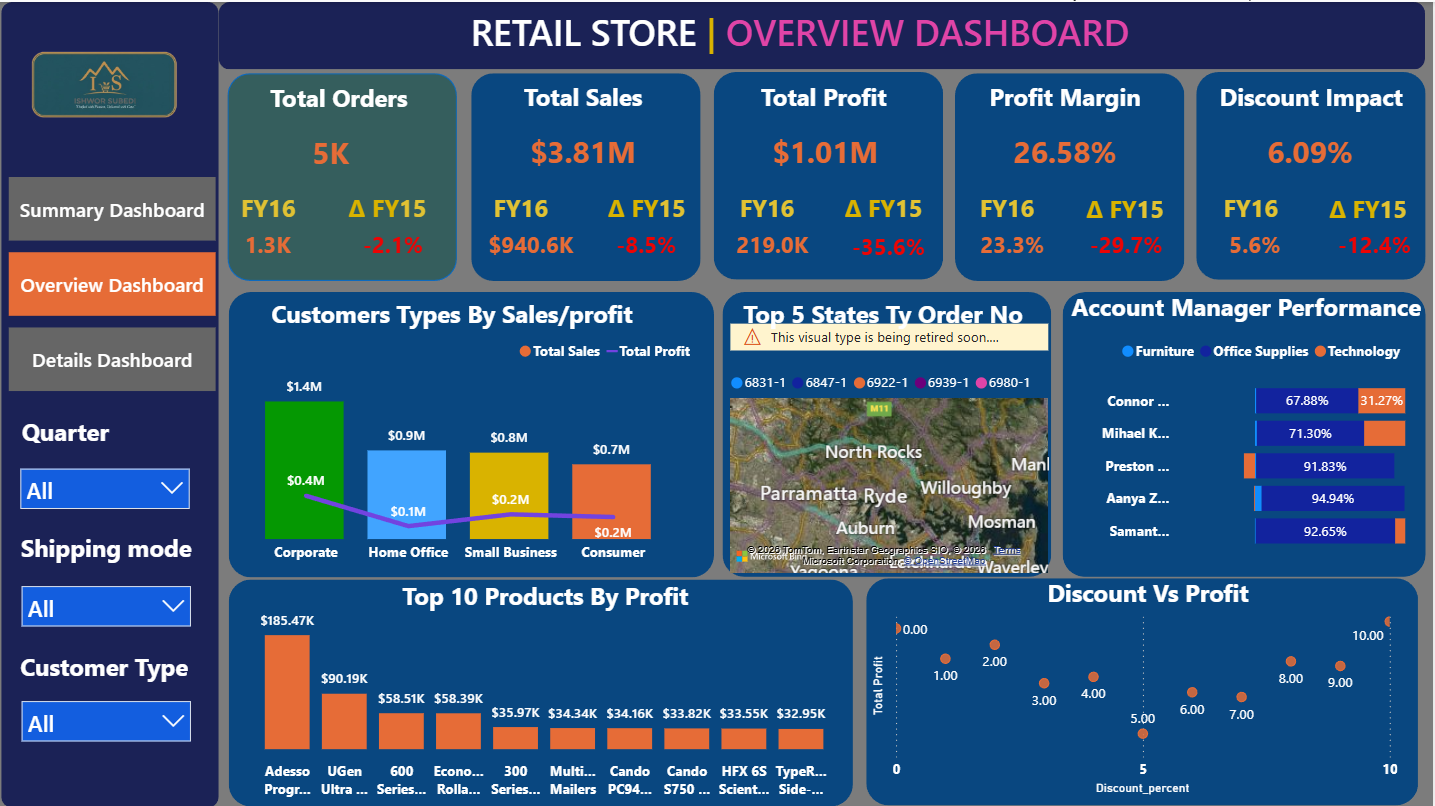

The dashboard page shown, as its layout file describes it:
{"tool":"powerbi","page":{"name":"Overview Dashboard","canvas":[1280,720],"ordinal":1},"visuals":[{"type":"shape","box":[195.4,0,1077.5,60.3],"z":0},{"type":"slicer","fields":{"Values":["Date.Quarter"]},"box":[8.1,407,171.8,63.1],"z":0,"group":"g1"},{"type":"slicer","fields":{"Values":["retail_data.Ship_Mode"]},"box":[8.7,511.1,171.8,63.1],"z":0,"group":"g2"},{"type":"slicer","fields":{"Values":["retail_data.Customer_Type"]},"box":[9.3,614.4,171.8,63.1],"z":0,"group":"g3"},{"type":"shape","box":[203.3,63.3,205,185.6],"z":1000},{"type":"textbox","box":[0,364.1,116.8,45.6],"z":1000,"group":"g1"},{"type":"textbox","box":[10.9,468,167.5,45.8],"z":1000,"group":"g2"},{"type":"textbox","box":[1.1,574.1,183.9,51],"z":1000,"group":"g3"},{"type":"shape","box":[1.2,0,194.2,719.8],"z":2000},{"type":"textbox","box":[355.1,0,719.1,72.6],"z":3000},{"type":"shape","box":[421.1,63.3,205,185.6],"z":4000},{"type":"card","fields":{"Values":["retail_data.Total Orders"]},"box":[212.2,107,166.7,56.7],"z":5000},{"type":"card","fields":{"Values":["retail_data.Total Sales"]},"box":[437.2,107.4,166.3,55.8],"z":6000},{"type":"textbox","box":[202.3,65.7,201.2,45.3],"z":7000},{"type":"textbox","box":[419.9,65,202.1,46.9],"z":8000},{"type":"shape","box":[637.6,63,205,185.4],"z":9000},{"type":"shape","box":[853.3,63.3,205,185.6],"z":10000},{"type":"shape","box":[1068.9,62.9,205,185.6],"z":11000},{"type":"textbox","box":[194.2,164.7,84.9,45.3],"z":12000},{"type":"textbox","box":[276.7,164.7,132.6,45.3],"z":13000},{"type":"textbox","box":[520.9,164.7,101.2,45.3],"z":14000},{"type":"textbox","box":[732.2,164.4,107.8,45.6],"z":15000},{"type":"textbox","box":[948.9,165.1,100,44.4],"z":16000},{"type":"textbox","box":[1170,165.6,97.8,44.4],"z":17000},{"type":"textbox","box":[419.8,164.7,84.9,45.3],"z":18000},{"type":"textbox","box":[639.5,164.7,84.9,45.3],"z":19000},{"type":"textbox","box":[854.7,164.7,84.9,45.3],"z":20000},{"type":"textbox","box":[1072.1,164.7,84.9,45.3],"z":21000},{"type":"textbox","box":[635.4,64.8,201,46.9],"z":22000},{"type":"textbox","box":[850.9,64.8,201,46.9],"z":23000},{"type":"textbox","box":[1070.8,64.8,201,46.9],"z":24000},{"type":"card","fields":{"Values":["retail_data.Total Sales 2016"]},"box":[390.5,190.9,167.4,55.8],"z":25000},{"type":"card","fields":{"Values":["retail_data.Orders YTD"]},"box":[155.8,190.9,166.3,55.8],"z":26000},{"type":"card","fields":{"Values":["retail_data.YOY Orders %"]},"box":[267.8,191.1,166.7,55.6],"z":27000},{"type":"card","fields":{"Values":["retail_data.Sales diffrence%"]},"box":[495,190.2,165.9,57.2],"z":28000},{"type":"card","fields":{"Values":["retail_data.Total Profit"]},"box":[654.3,107.7,166,55.3],"z":29000},{"type":"card","fields":{"Values":["retail_data.Total Profit 2016"]},"box":[606.7,191.1,167.8,55.6],"z":30000},{"type":"card","fields":{"Values":["retail_data.profit diffrence%"]},"box":[711.3,192.1,165.3,55.8],"z":31000},{"type":"card","fields":{"Values":["retail_data.profit margindiffrence%"]},"box":[923.3,191.1,165.6,55.6],"z":32000},{"type":"card","fields":{"Values":["retail_data.Profit Margin %"]},"box":[868.9,107.5,165.6,55.6],"z":33000},{"type":"card","fields":{"Values":["retail_data.Discount Impact %"]},"box":[1087.8,107.5,165.6,55.6],"z":34000},{"type":"card","fields":{"Values":["retail_data.profit margin 2016"]},"box":[821.1,192.2,167.8,53.3],"z":35000},{"type":"card","fields":{"Values":["retail_data.Discount impact 2016"]},"box":[1037.8,192.2,167.8,53.3],"z":36000},{"type":"card","fields":{"Values":["retail_data.discount impact diffrence%"]},"box":[1178.9,191.1,97.8,55.6],"z":37000},{"type":"shape","box":[204,259,433.5,255],"z":38000},{"type":"textbox","box":[220.1,259,367.7,44.3],"z":39000},{"type":"group","id":"g1","title":"Group 1","box":[0,364.1,179.8,106],"z":40000},{"type":"group","id":"g2","title":"Group 1","box":[8.7,468,171.8,106.2],"z":41000},{"type":"group","id":"g3","title":"Group 1","box":[1.1,574.1,183.9,103.4],"z":42000},{"type":"image","box":[1.1,0,184.2,147.4],"z":43000},{"type":"shape","box":[645.4,259.1,293.7,254.6],"z":44000},{"type":"lineClusteredColumnComboChart","fields":{"Category":["retail_data.Customer_Type"],"Y":["retail_data.Total Sales"],"Y2":["retail_data.Total Profit"]},"box":[195.9,292.6,430.8,217.4],"z":45000},{"type":"filledMap","fields":{"Category":["retail_data.Address"],"Series":["retail_data.Order_No"]},"box":[647.7,282.6,294.2,232.6],"z":46000},{"type":"textbox","box":[654.3,259.1,269.1,44.7],"z":47000},{"type":"shape","box":[948.8,259.3,324.4,254.7],"z":48000},{"type":"hundredPercentStackedBarChart","fields":{"Category":["retail_data.Account_Manager"],"Y":["retail_data.Total Profit"],"Series":["retail_data.Product_Category"]},"box":[968.1,292.6,292.6,208.8],"z":49000},{"type":"shape","box":[204.1,516.2,557.5,202.8],"z":50000},{"type":"textbox","box":[941.3,252.4,338.3,54.7],"z":51000},{"type":"columnChart","fields":{"Category":["retail_data.Product_Name"],"Y":["retail_data.Total Profit"]},"box":[204.1,530.8,557.5,188.3],"z":52000},{"type":"textbox","box":[302.4,510.2,369.3,44.9],"z":53000},{"type":"shape","box":[773.7,515,493.2,202.8],"z":54000},{"type":"scatterChart","fields":{"Y":["retail_data.Total Profit"],"X":["retail_data.Discount_percent"]},"box":[773.7,533.2,479.8,179.8],"z":55000},{"type":"textbox","box":[840.5,507.7,369.3,44.9],"z":56000},{"type":"pageNavigator","box":[7.8,156.3,185.4,193.2],"z":57000}]}

Visuals, with their boxes in screenshot pixels (x1, y1, x2, y2), scaled from the page's 1280x720 canvas onto the 1435x806 screenshot:
shape: left=219, top=0, right=1427, bottom=68
slicer - Date.Quarter: left=9, top=456, right=202, bottom=526
slicer - retail_data.Ship_Mode: left=10, top=572, right=202, bottom=643
slicer - retail_data.Customer_Type: left=10, top=688, right=203, bottom=758
shape: left=228, top=71, right=458, bottom=279
textbox: left=0, top=408, right=131, bottom=459
textbox: left=12, top=524, right=200, bottom=575
textbox: left=1, top=643, right=207, bottom=700
shape: left=1, top=0, right=219, bottom=805
textbox: left=398, top=0, right=1204, bottom=81
shape: left=472, top=71, right=702, bottom=279
card - retail_data.Total Orders: left=238, top=120, right=425, bottom=183
card - retail_data.Total Sales: left=490, top=120, right=677, bottom=183
textbox: left=227, top=74, right=452, bottom=124
textbox: left=471, top=73, right=697, bottom=125
shape: left=715, top=71, right=945, bottom=278
shape: left=957, top=71, right=1186, bottom=279
shape: left=1198, top=70, right=1428, bottom=278
textbox: left=218, top=184, right=313, bottom=235
textbox: left=310, top=184, right=459, bottom=235
textbox: left=584, top=184, right=697, bottom=235
textbox: left=821, top=184, right=942, bottom=235
textbox: left=1064, top=185, right=1176, bottom=235
textbox: left=1312, top=185, right=1421, bottom=235
textbox: left=471, top=184, right=566, bottom=235
textbox: left=717, top=184, right=812, bottom=235
textbox: left=958, top=184, right=1053, bottom=235
textbox: left=1202, top=184, right=1297, bottom=235
textbox: left=712, top=73, right=938, bottom=125
textbox: left=954, top=73, right=1179, bottom=125
textbox: left=1200, top=73, right=1426, bottom=125
card - retail_data.Total Sales 2016: left=438, top=214, right=625, bottom=276
card - retail_data.Orders YTD: left=175, top=214, right=361, bottom=276
card - retail_data.YOY Orders %: left=300, top=214, right=487, bottom=276
card - retail_data.Sales diffrence%: left=555, top=213, right=741, bottom=277
card - retail_data.Total Profit: left=734, top=121, right=920, bottom=182
card - retail_data.Total Profit 2016: left=680, top=214, right=868, bottom=276
card - retail_data.profit diffrence%: left=797, top=215, right=983, bottom=278
card - retail_data.profit margindiffrence%: left=1035, top=214, right=1221, bottom=276
card - retail_data.Profit Margin %: left=974, top=120, right=1160, bottom=183
card - retail_data.Discount Impact %: left=1220, top=120, right=1405, bottom=183
card - retail_data.profit margin 2016: left=921, top=215, right=1109, bottom=275
card - retail_data.Discount impact 2016: left=1163, top=215, right=1352, bottom=275
card - retail_data.discount impact diffrence%: left=1322, top=214, right=1431, bottom=276
shape: left=229, top=290, right=715, bottom=575
textbox: left=247, top=290, right=659, bottom=340
"Group 1" group: left=0, top=408, right=202, bottom=526
"Group 1" group: left=10, top=524, right=202, bottom=643
"Group 1" group: left=1, top=643, right=207, bottom=758
image: left=1, top=0, right=208, bottom=165
shape: left=724, top=290, right=1053, bottom=575
lineClusteredColumnComboChart - retail_data.Customer_Type x retail_data.Total Sales: left=220, top=328, right=703, bottom=571
filledMap - retail_data.Address x retail_data.Order_No: left=726, top=316, right=1056, bottom=577
textbox: left=734, top=290, right=1035, bottom=340
shape: left=1064, top=290, right=1427, bottom=575
hundredPercentStackedBarChart - retail_data.Account_Manager x retail_data.Total Profit: left=1085, top=328, right=1413, bottom=561
shape: left=229, top=578, right=854, bottom=805
textbox: left=1055, top=283, right=1434, bottom=344
columnChart - retail_data.Product_Name x retail_data.Total Profit: left=229, top=594, right=854, bottom=805
textbox: left=339, top=571, right=753, bottom=621
shape: left=867, top=577, right=1420, bottom=804
scatterChart - retail_data.Total Profit x retail_data.Discount_percent: left=867, top=597, right=1405, bottom=798
textbox: left=942, top=568, right=1356, bottom=619
pageNavigator: left=9, top=175, right=217, bottom=391
